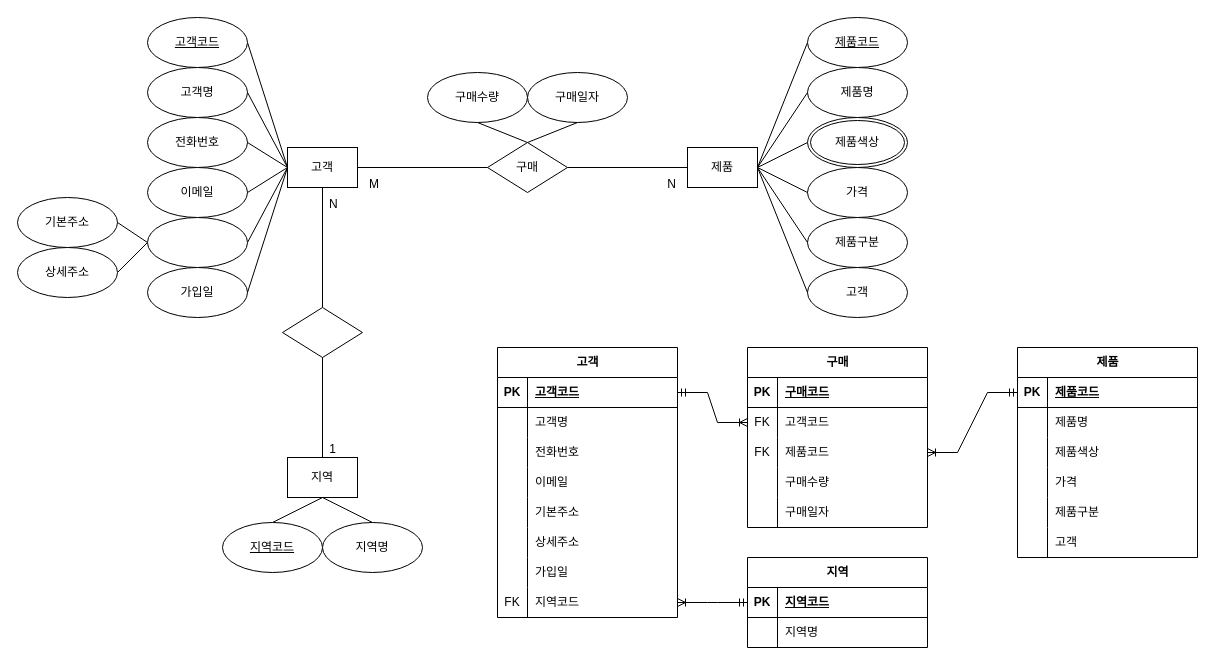
This 1215x665 diagram has some shape labels left out. Here are the shapes that lost their labels. From the top down, the centre of each, then its label:
(x=197, y=242): 주소
(x=322, y=332): 관리
